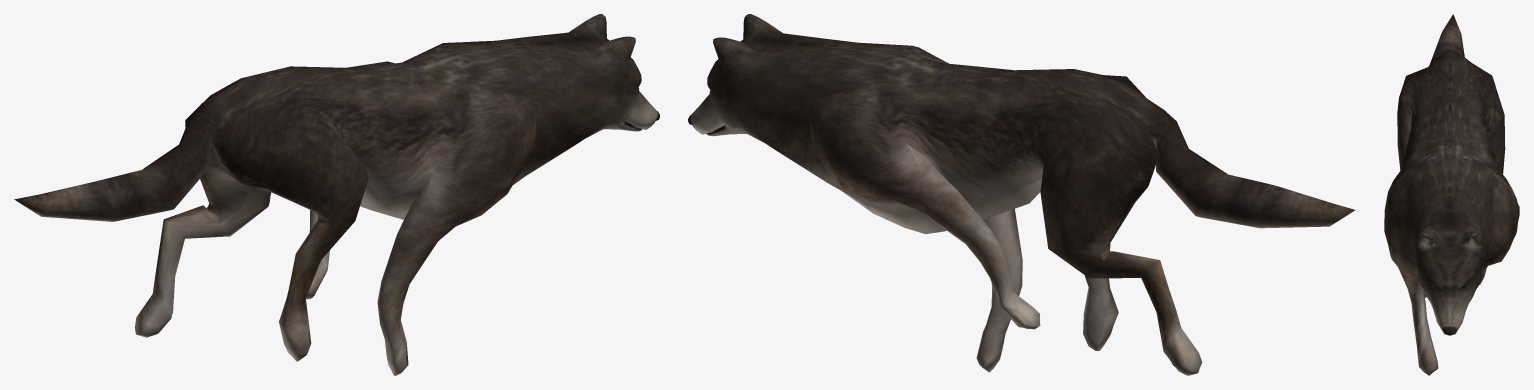
The model's file is wolf_running_000005.obj.
3 views of the same model, side by side, from view 1: azimuth 30°, elevation 25°; view 2: azimuth 150°, elevation 25°; view 3: azimuth 270°, elevation 25° (orthographic). The views are drawn at different scales.
Parts seen in each view (by area): view 1: Wolf1_Material__wolf_col_tga_0; view 2: Wolf1_Material__wolf_col_tga_0; view 3: Wolf1_Material__wolf_col_tga_0.
Part boxes in pixels (<box>): Wolf1_Material__wolf_col_tga_0: <box>14,14,659,375</box>; Wolf1_Material__wolf_col_tga_0: <box>688,14,1355,375</box>; Wolf1_Material__wolf_col_tga_0: <box>1384,14,1519,375</box>.
Size of the model in its own units: 1.02 by 0.4879 by 0.2241.
Materials: 2 (2 with a texture image).
